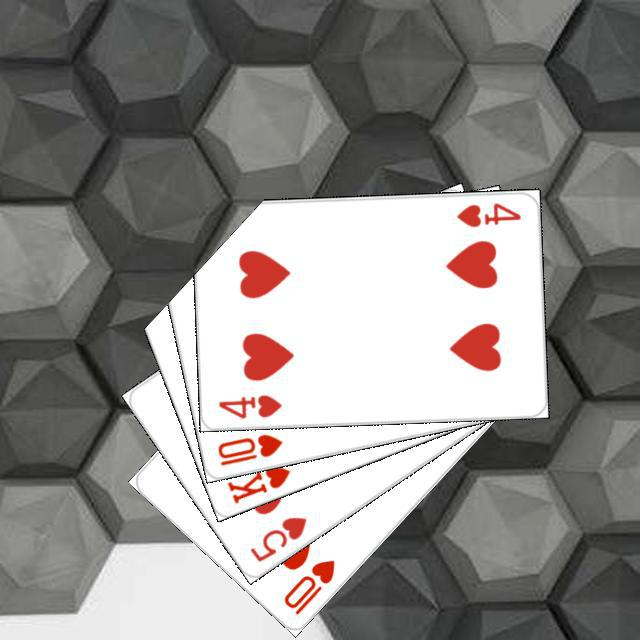10h: (278, 554, 337, 617), (212, 429, 284, 468)
4h: (213, 389, 283, 420), (452, 198, 522, 229)
5h: (245, 511, 309, 564)
Kh: (222, 448, 292, 505)
